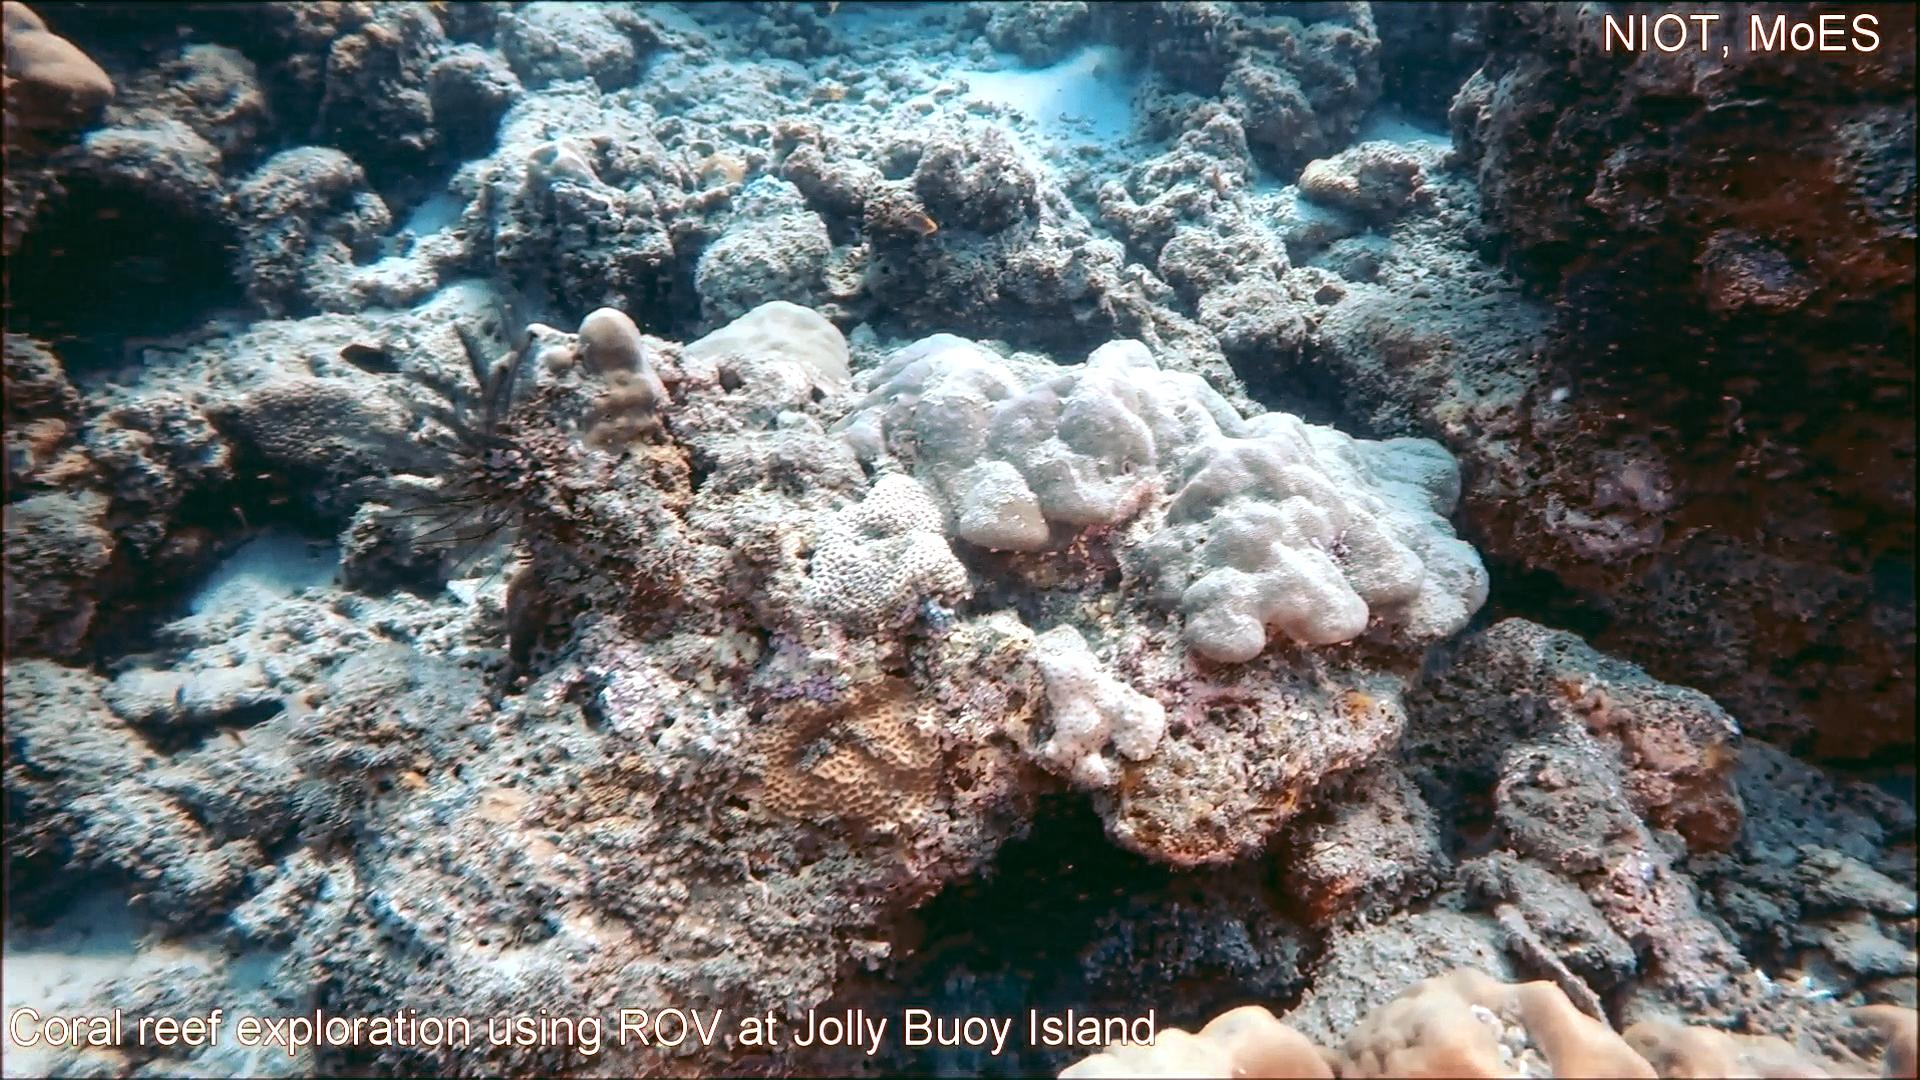Feather star-Crinoid star: (328, 256, 560, 582)
Goniastrea-Goniastrea pectinata: (802, 468, 977, 644)
Porites-Porites pukoensis: (1056, 331, 1495, 671)
Turbinaria-Turbinaria stellulata: (237, 375, 363, 469)
